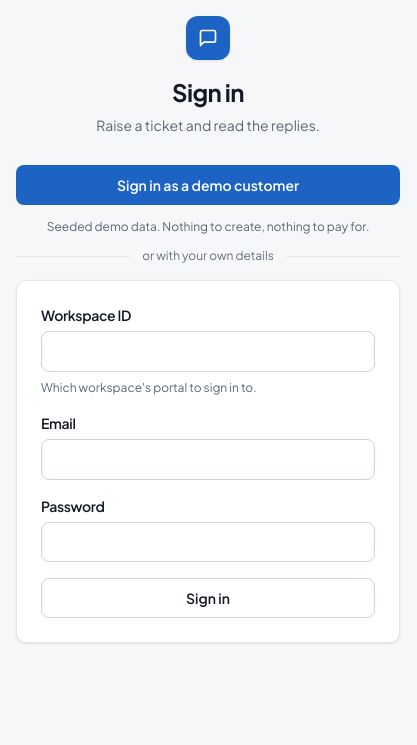
Test: the Portal sign-in form › announces a refusal to a screen reader and leaves the form usable
The width and height of the screenshot is (417, 745).
In the field labelled "Workspace ID": (208, 352) [41, 331, 375, 372], type "ten_1"
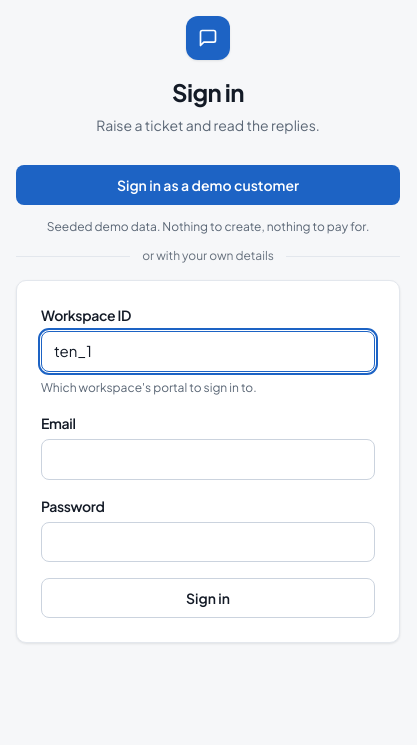
In the field labelled "Email": (208, 460) [41, 439, 375, 480], type "jules@example.test"
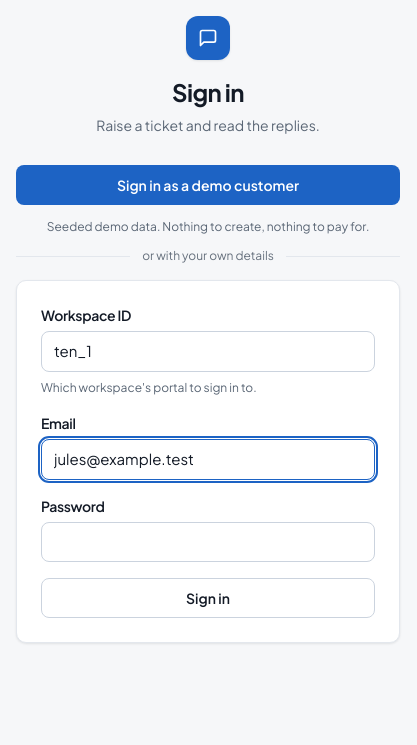
In the password field labelled "Password": (208, 542) [41, 522, 375, 562], type "wrong"
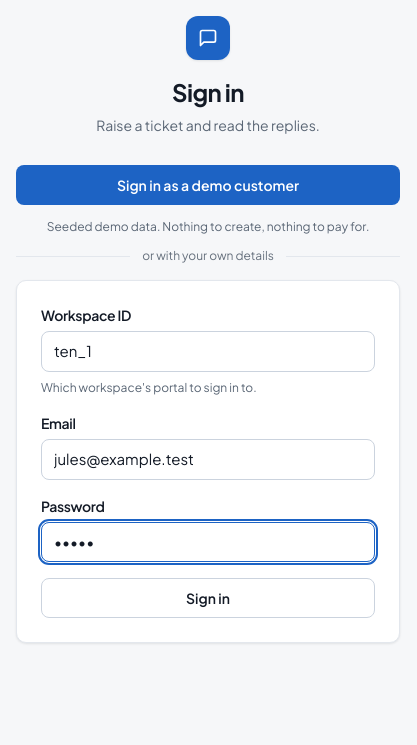
Click the button "Sign in": (208, 598) [41, 578, 375, 618]
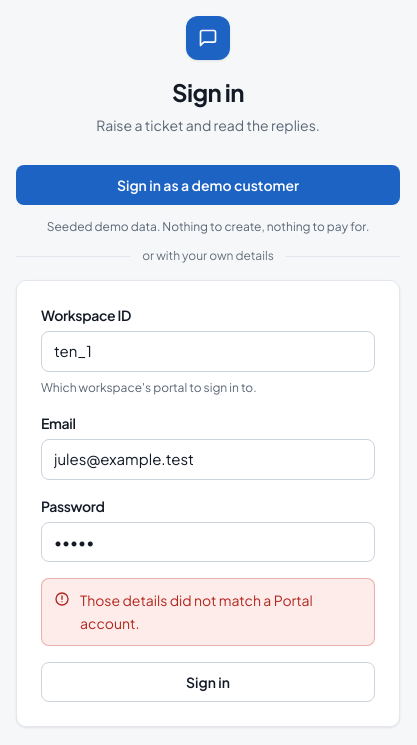
Expected: the button "Sign in" is enabled, [41, 662, 375, 702]
Result: the message "Those details did not match a Portal account." is shown at [41, 578, 375, 646]
